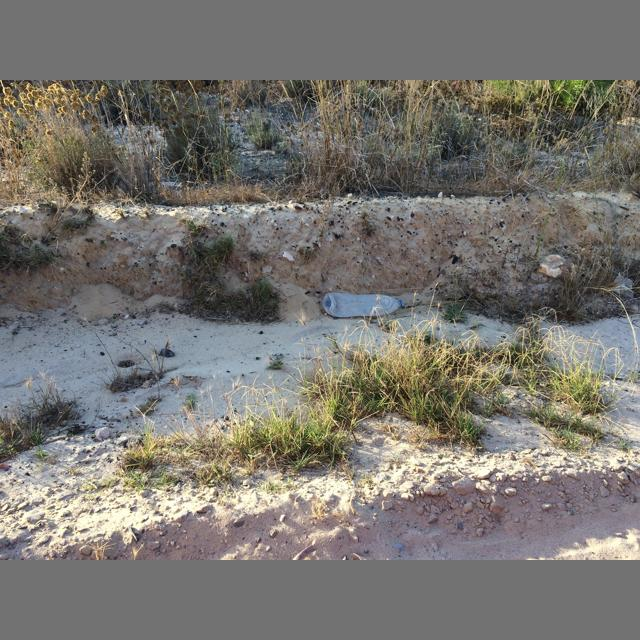litter: (323, 292, 404, 317)
